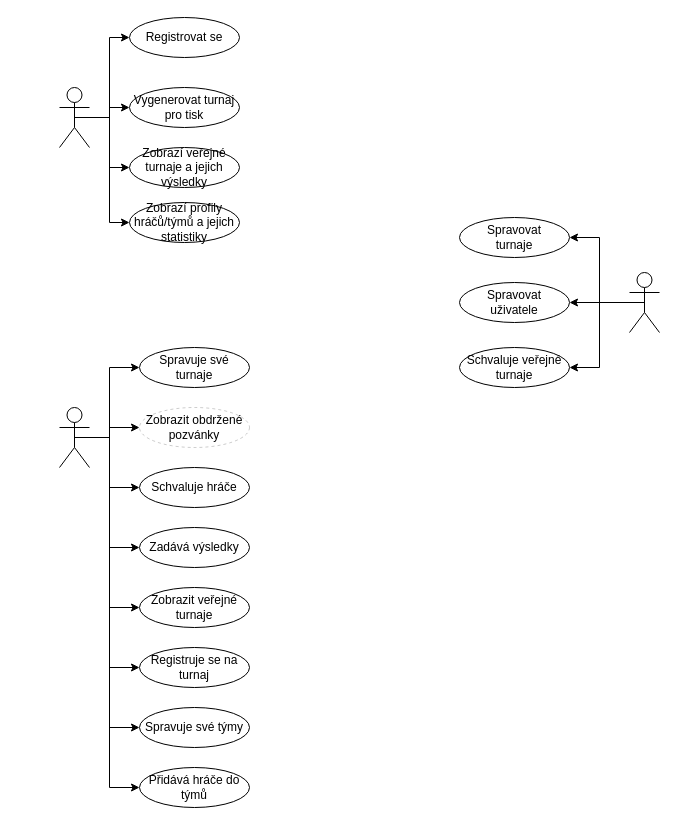
Some shapes in this 697 by 825 pixel diagram are drawn without their labels. Here are the shapes that lost their labels. From the top down, the centre of each, then its label:
At point 74,117: "Neregistrovaný uživatel".
At point 644,302: "Administrátor".
At point 74,437: "Registrovaný uživatel".
